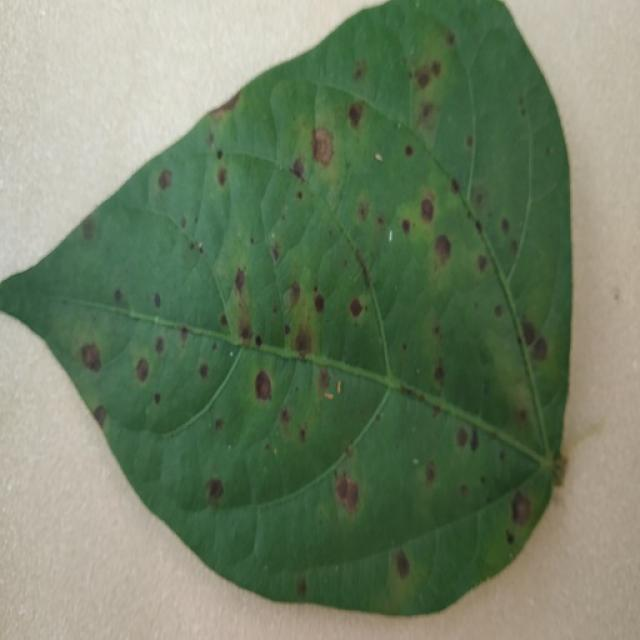Anthracnose: (335, 298, 388, 382), (378, 541, 424, 611), (434, 225, 466, 271), (352, 245, 373, 287), (413, 60, 441, 90), (312, 128, 334, 166), (511, 491, 533, 526), (80, 343, 103, 373), (213, 91, 240, 115), (254, 369, 273, 402), (417, 101, 437, 131), (294, 328, 313, 357), (343, 479, 359, 510), (550, 454, 567, 483), (347, 101, 364, 129), (205, 478, 224, 503), (395, 549, 410, 578), (531, 336, 548, 361), (521, 321, 537, 347), (80, 217, 97, 241), (135, 358, 150, 383), (420, 196, 434, 222), (335, 476, 349, 502), (290, 157, 305, 181), (353, 59, 368, 81), (349, 298, 364, 319), (157, 169, 172, 190), (318, 368, 331, 392), (93, 405, 107, 427), (289, 281, 301, 305), (425, 460, 437, 483), (357, 200, 369, 223), (456, 426, 468, 448), (296, 575, 308, 597), (313, 293, 325, 314), (235, 267, 245, 292), (469, 428, 479, 452), (217, 166, 228, 187), (189, 240, 204, 255), (280, 407, 291, 426), (155, 336, 165, 355), (477, 255, 488, 272), (434, 365, 445, 382), (113, 288, 124, 304), (445, 31, 456, 46), (199, 363, 209, 379), (240, 326, 251, 340), (501, 218, 510, 235), (153, 292, 162, 309), (271, 244, 280, 261), (180, 326, 189, 343), (401, 219, 410, 235), (451, 178, 460, 193), (474, 220, 483, 235), (506, 530, 515, 545), (404, 144, 414, 157), (214, 418, 224, 431), (299, 427, 307, 442), (494, 304, 503, 317), (460, 484, 469, 497), (220, 314, 229, 326), (153, 392, 161, 405), (254, 335, 262, 347), (466, 135, 473, 148), (545, 146, 553, 156), (216, 149, 223, 160), (296, 190, 303, 201), (181, 217, 187, 229), (520, 107, 526, 116), (265, 443, 271, 451), (250, 237, 256, 244)
Blackgram: (0, 0, 571, 614)
